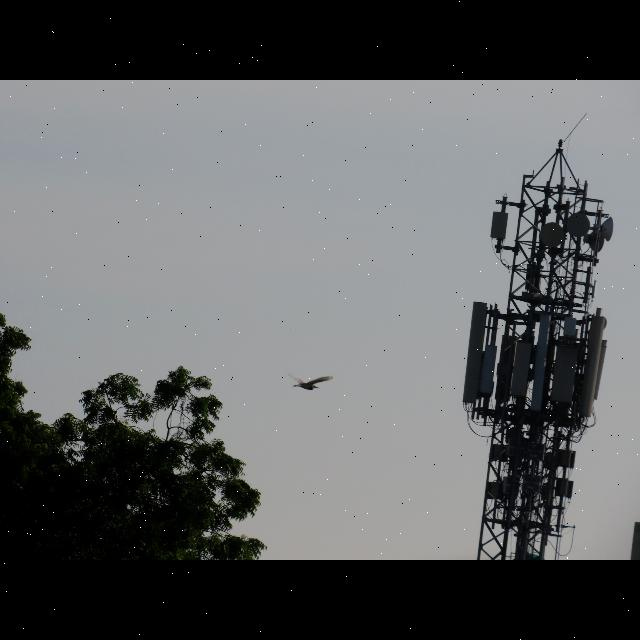heron: (287, 372, 339, 396)
